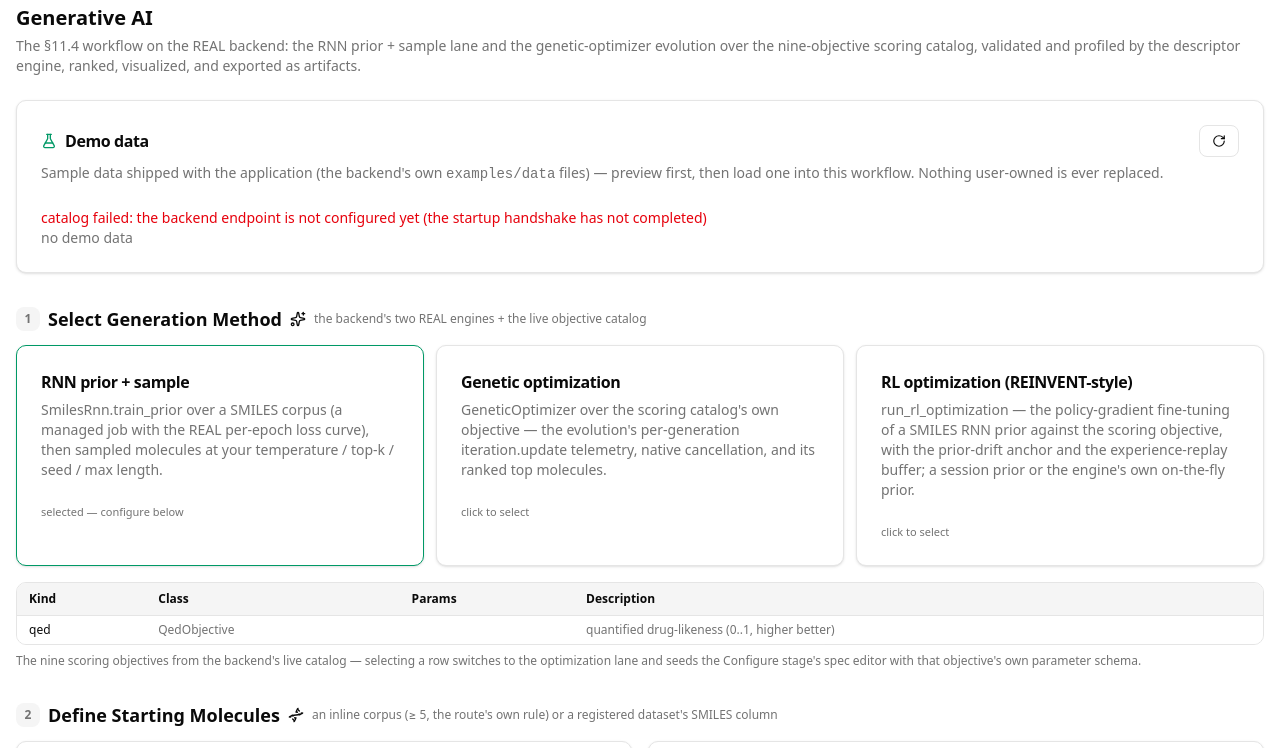
the GEN-2 MOSES metrics card of the Generative workspace › carries the inline reference through and renders the measured novelty
Click the element "Genetic optimization".
click(640, 425)  # box left=437, top=346, right=843, bottom=504
(page scrolled)
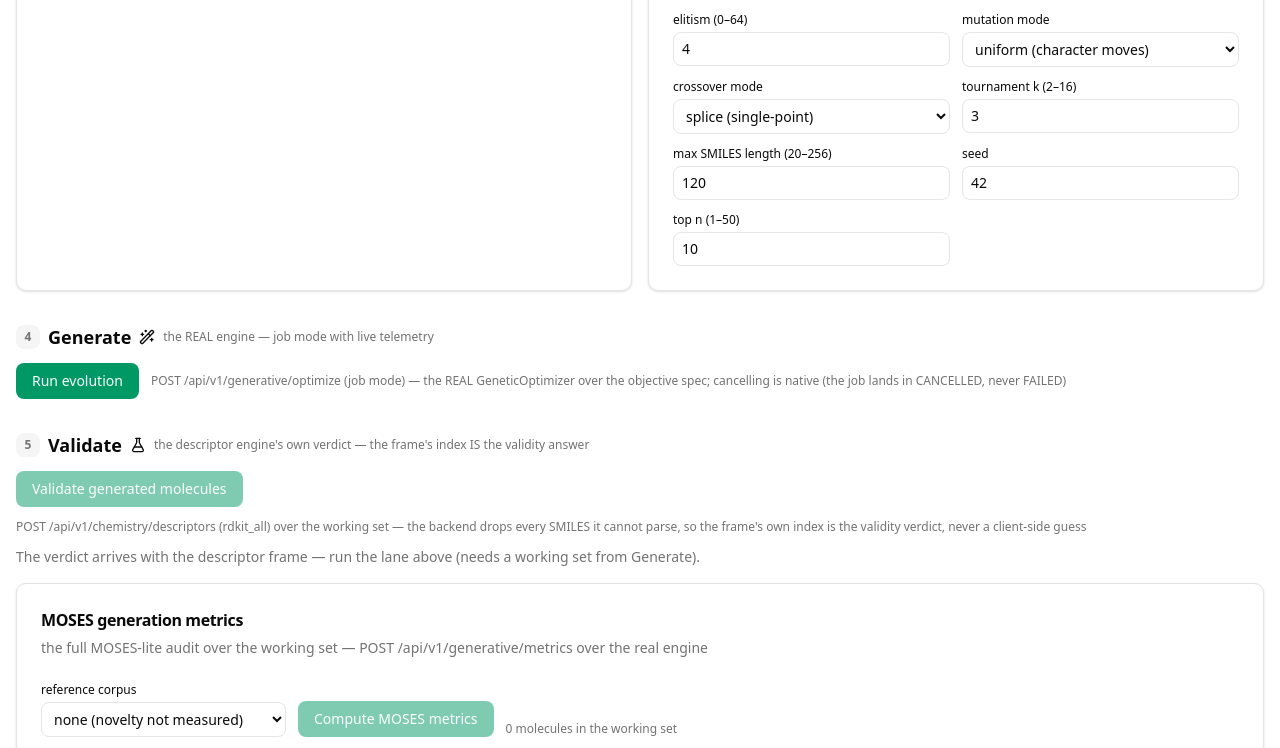
Click the button "Run evolution".
click(77, 380)  # box left=16, top=362, right=139, bottom=398
(page scrolled)
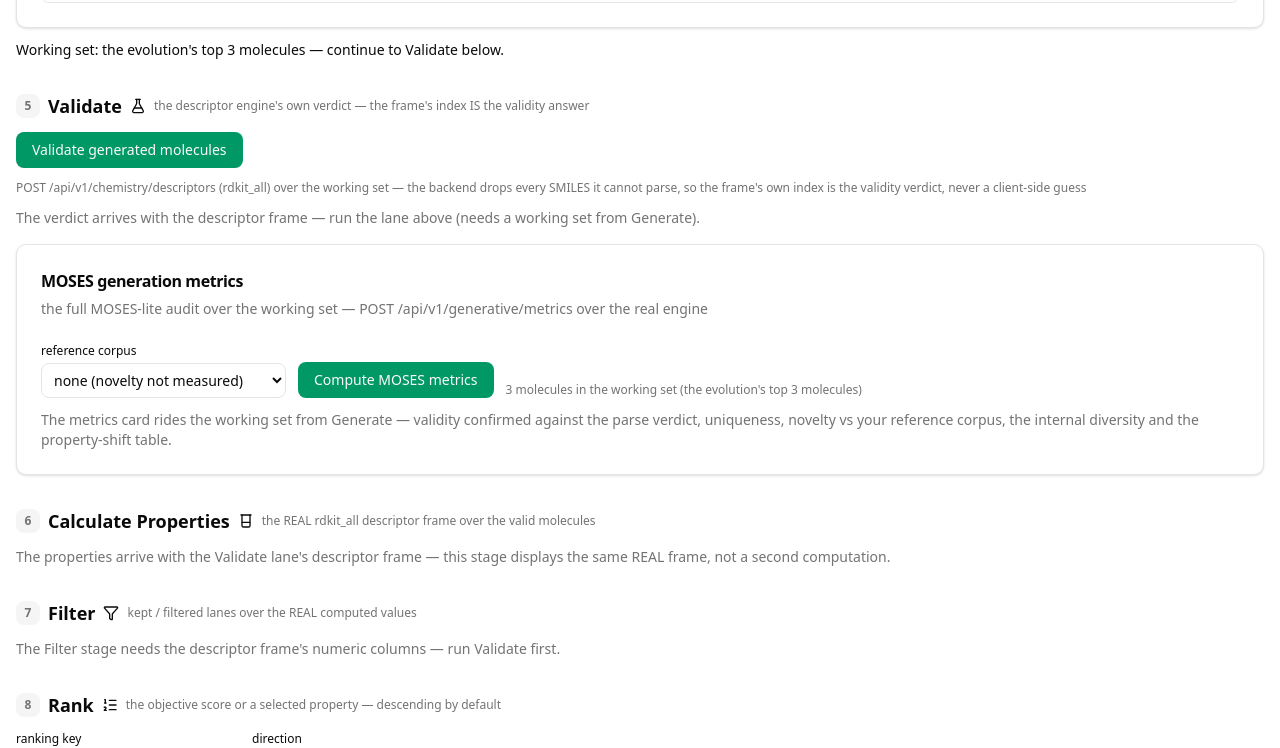
expect the text "3 molecules in the working set" is shown: met, box left=506, top=382, right=862, bottom=398
Select "the inline starting molecules (5)" in the dropdown named "metrics reference source" at (164, 380), box left=41, top=362, right=286, bottom=398
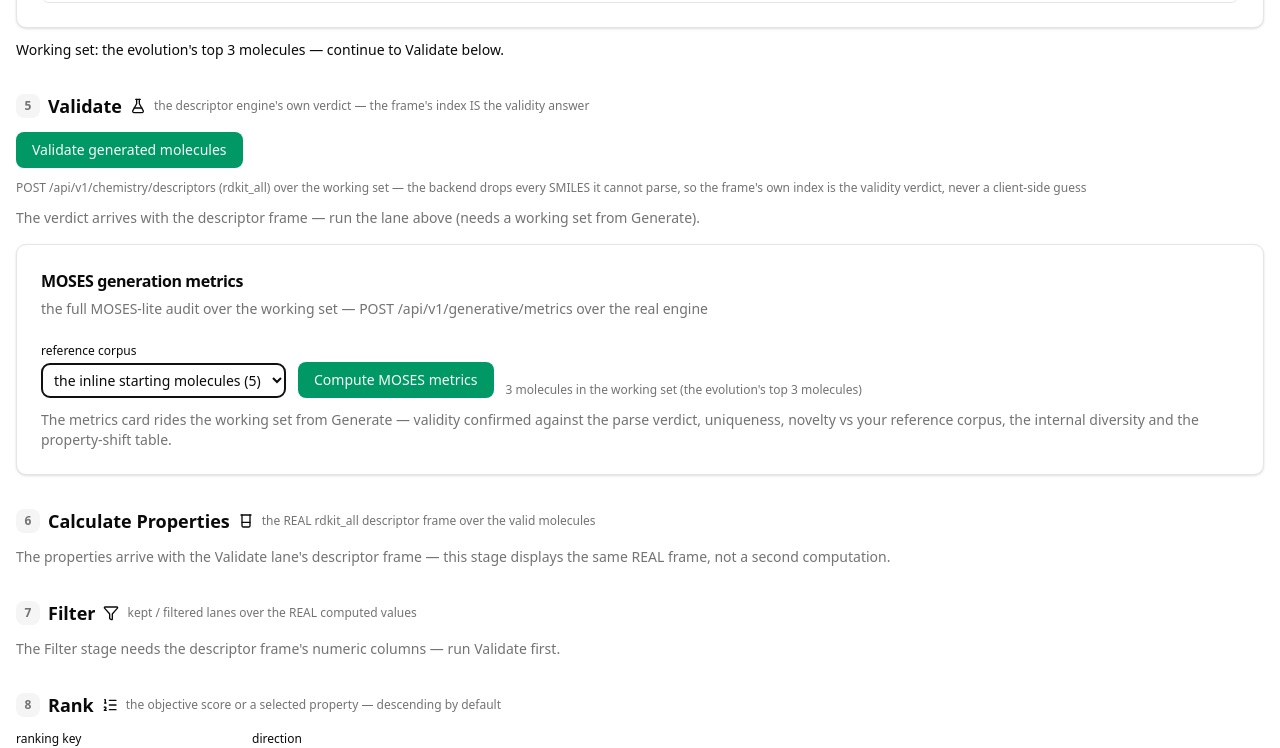
Click the button "Compute MOSES metrics".
click(396, 380)  # box left=298, top=362, right=494, bottom=398
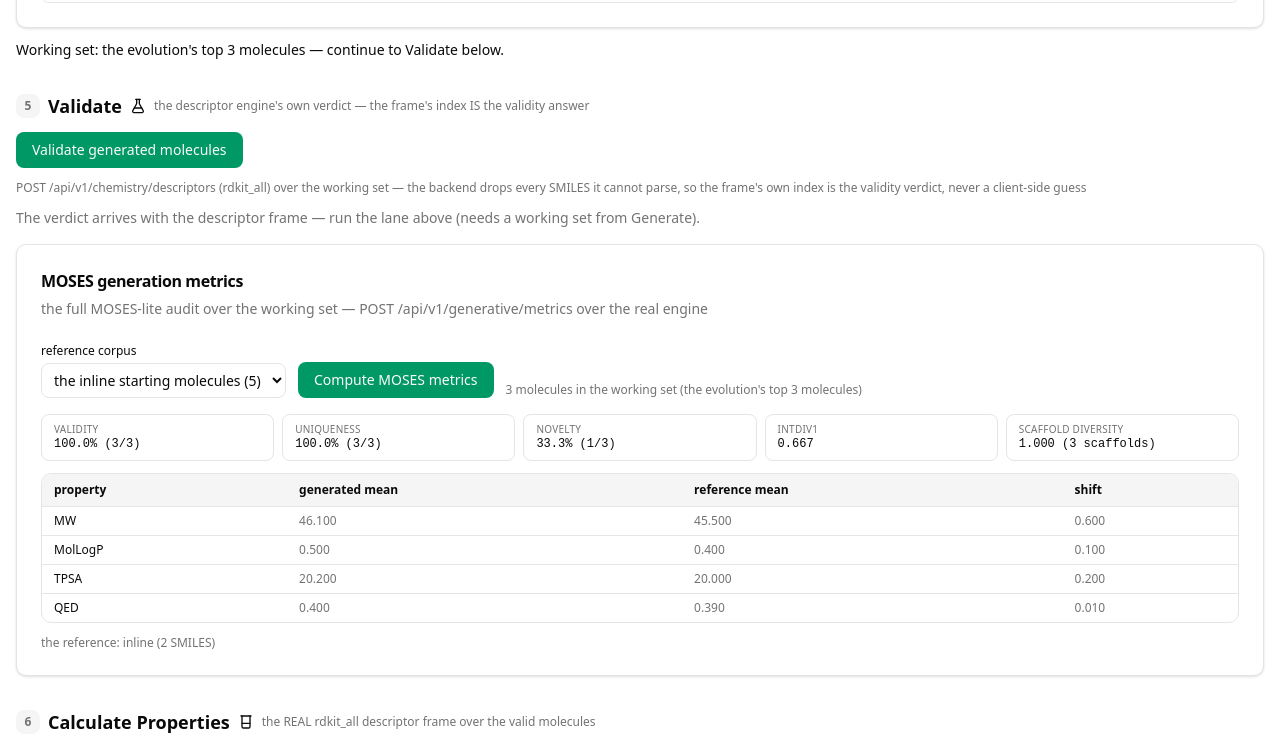
expect the text "33.3% (1/3)" is shown: met, box left=536, top=437, right=616, bottom=451
expect the text "45.500" is shown once: met, box left=682, top=506, right=1063, bottom=535
expect the text "the reference: inline (2 SMILES)" is shown: met, box left=41, top=634, right=215, bottom=651
